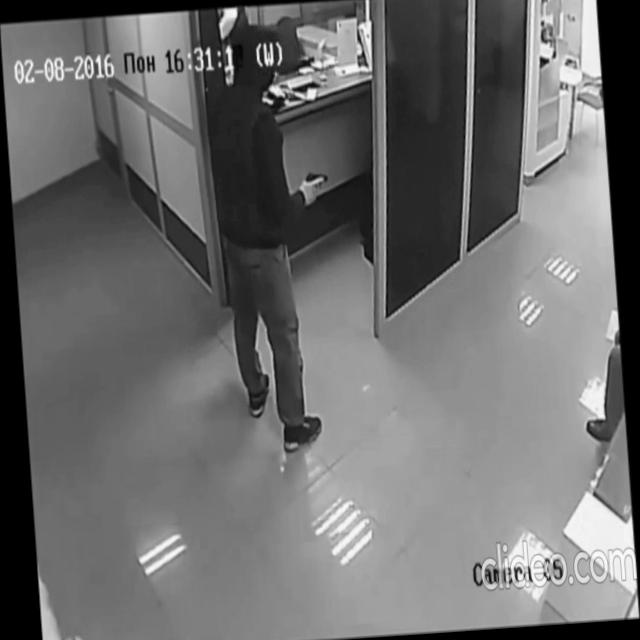gun: (298, 167, 330, 208)
person with a gun: (200, 16, 348, 460)
